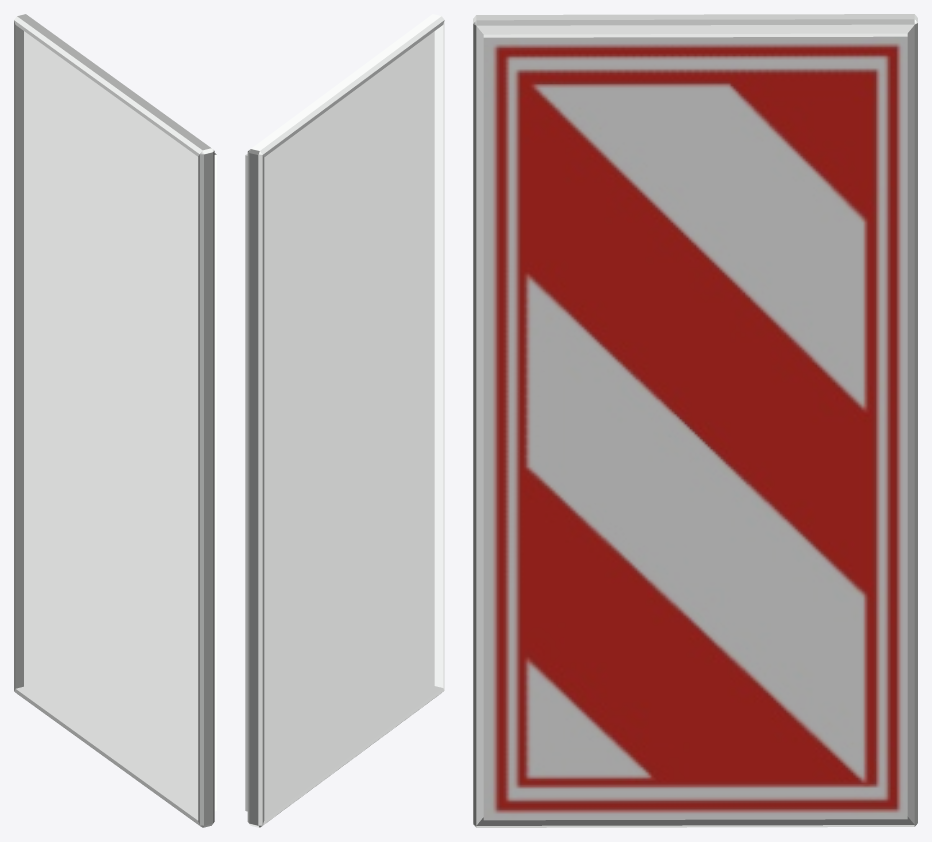
3 views of the same model, side by side, from view 1: azimuth 30°, elevation 25°; view 2: azimuth 150°, elevation 25°; view 3: azimuth 270°, elevation 25° (orthographic). The views are drawn at different scales.
Visible parts, largest first — view 1: model11; view 2: model11; view 3: model11.
Boxes of the visible parts, left/top/right/bottom form: model11: left=14, top=14, right=216, bottom=827; model11: left=245, top=14, right=444, bottom=827; model11: left=473, top=14, right=917, bottom=827.
Bounding box in the file's own units: 0.0843 × 2.46 × 1.23.
Materials: 1 (1 with a texture image).
